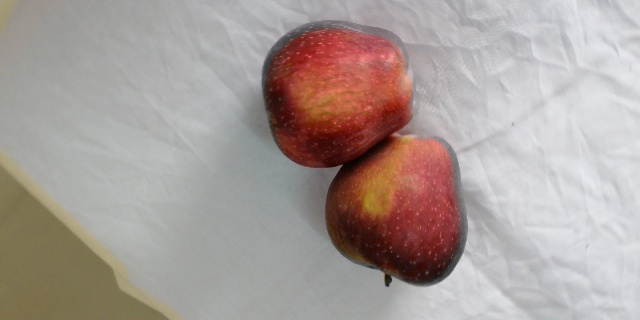apple_kashmir: (325, 131, 475, 292), (261, 20, 414, 170)
